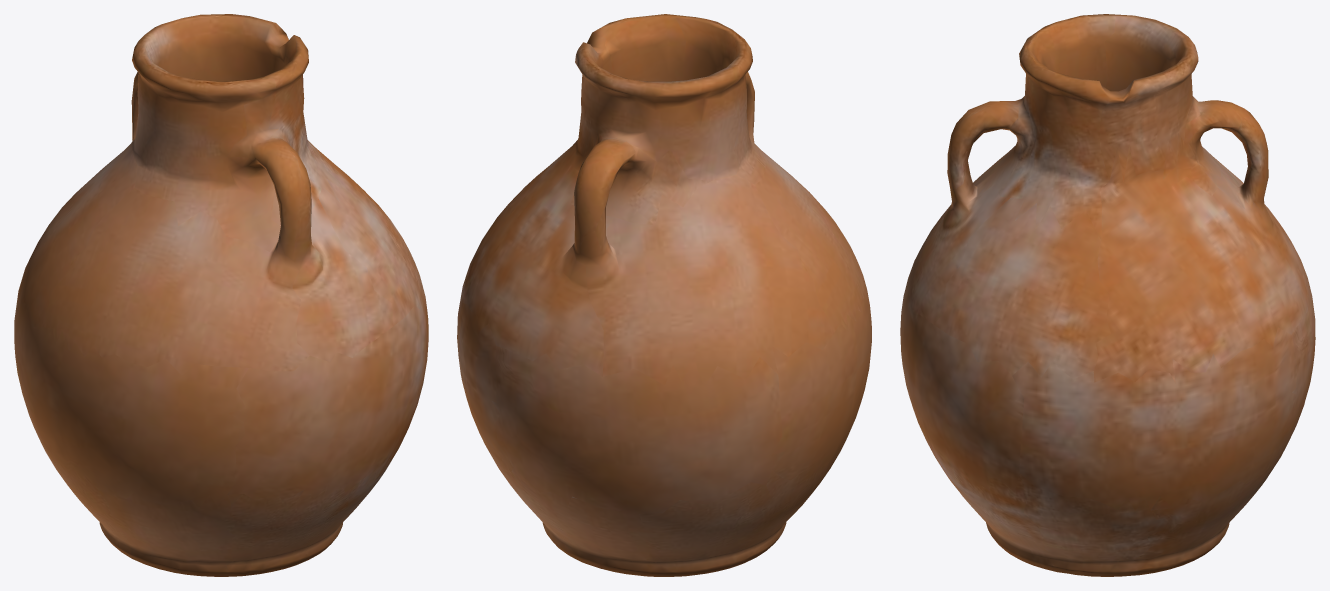
Rendered from jug.glb.
3 views of the same model, side by side, from view 1: azimuth 30°, elevation 25°; view 2: azimuth 150°, elevation 25°; view 3: azimuth 270°, elevation 25° (orthographic).
Visible parts, largest first — view 1: tripo_node_5cc0b6a1-047c-4d77-9b04-f237edd1e81c; view 2: tripo_node_5cc0b6a1-047c-4d77-9b04-f237edd1e81c; view 3: tripo_node_5cc0b6a1-047c-4d77-9b04-f237edd1e81c.
Part boxes in pixels (<box>): tripo_node_5cc0b6a1-047c-4d77-9b04-f237edd1e81c: <box>14,14,428,576</box>; tripo_node_5cc0b6a1-047c-4d77-9b04-f237edd1e81c: <box>457,14,871,576</box>; tripo_node_5cc0b6a1-047c-4d77-9b04-f237edd1e81c: <box>900,14,1315,576</box>.
Size of the model in its own units: 0.2499 by 0.32 by 0.25.
Materials: 1 (1 with a texture image).
